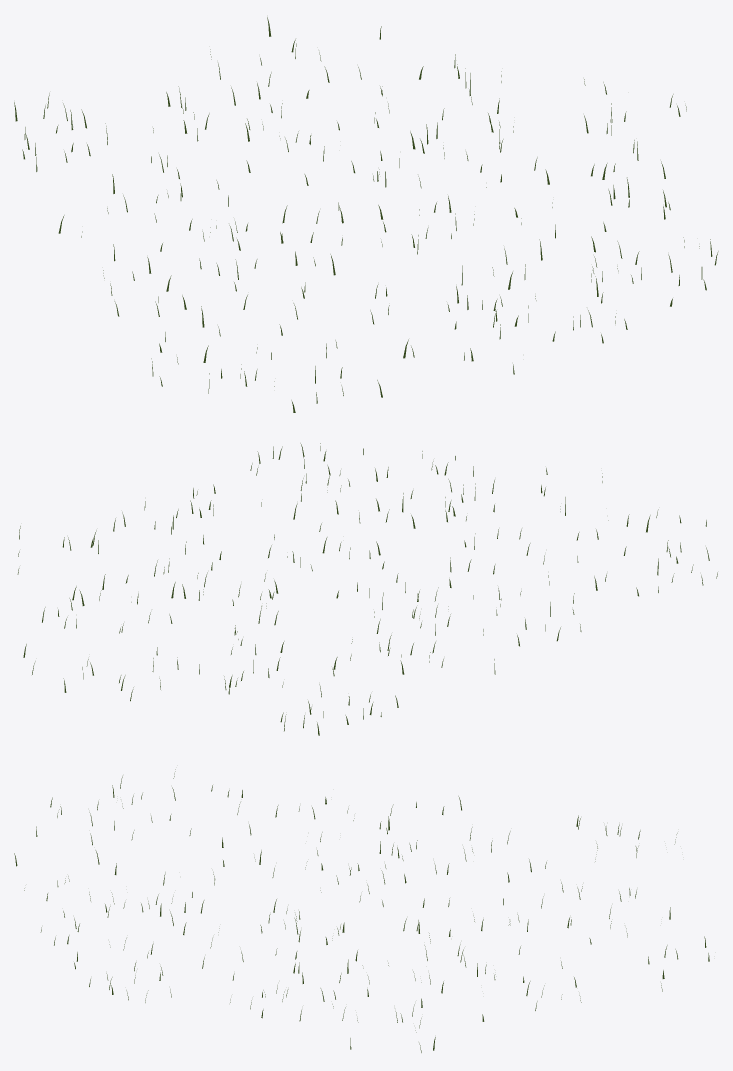
The picture shows the model from 3 angles, top to bottom: view 1: azimuth 30°, elevation 25°; view 2: azimuth 150°, elevation 25°; view 3: azimuth 270°, elevation 25°; orthographic projection. The views are drawn at different scales.
Visible parts, largest first — view 1: GrassPatch; view 2: GrassPatch; view 3: GrassPatch.
Boxes of the visible parts, left/top/right/bottom form: GrassPatch: left=14, top=17, right=718, bottom=412; GrassPatch: left=17, top=443, right=717, bottom=735; GrassPatch: left=14, top=769, right=709, bottom=1052.
Bounding box in the file's own units: 15.98 × 0.492 × 16.98.
